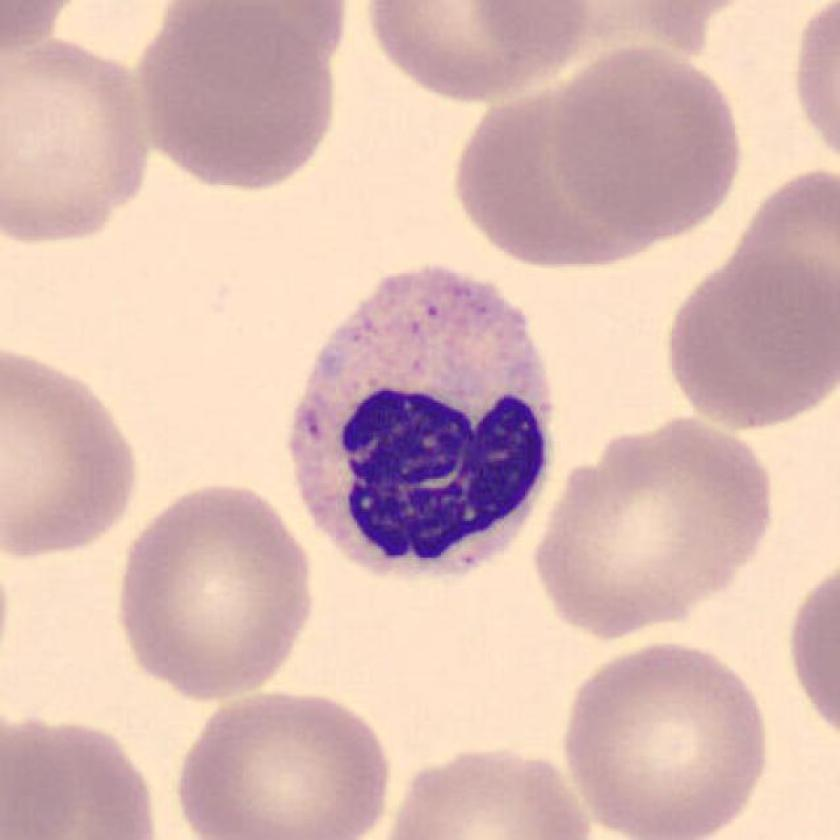neutrophil: (294, 272, 551, 575)
